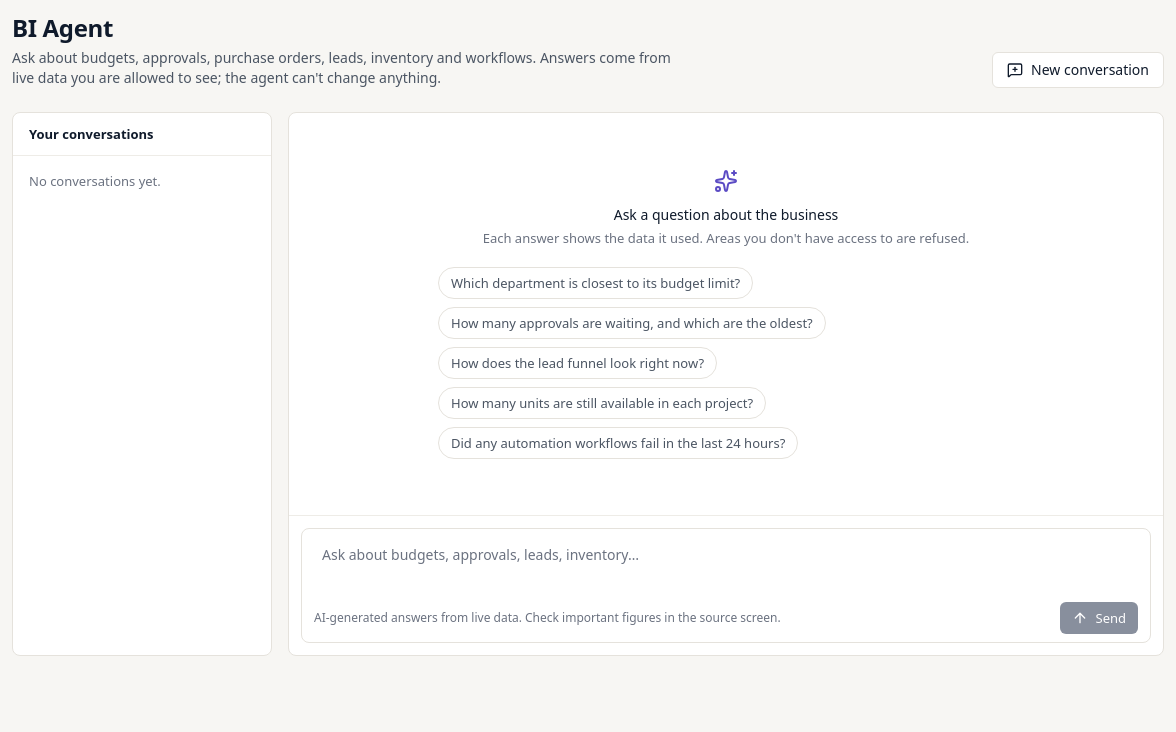
it: BI agent page › reports a refused request (e.g. 503) inline
In the text box named "Message": point(726, 565) [310, 537, 1142, 593], type "Budget?"
Then press Enter
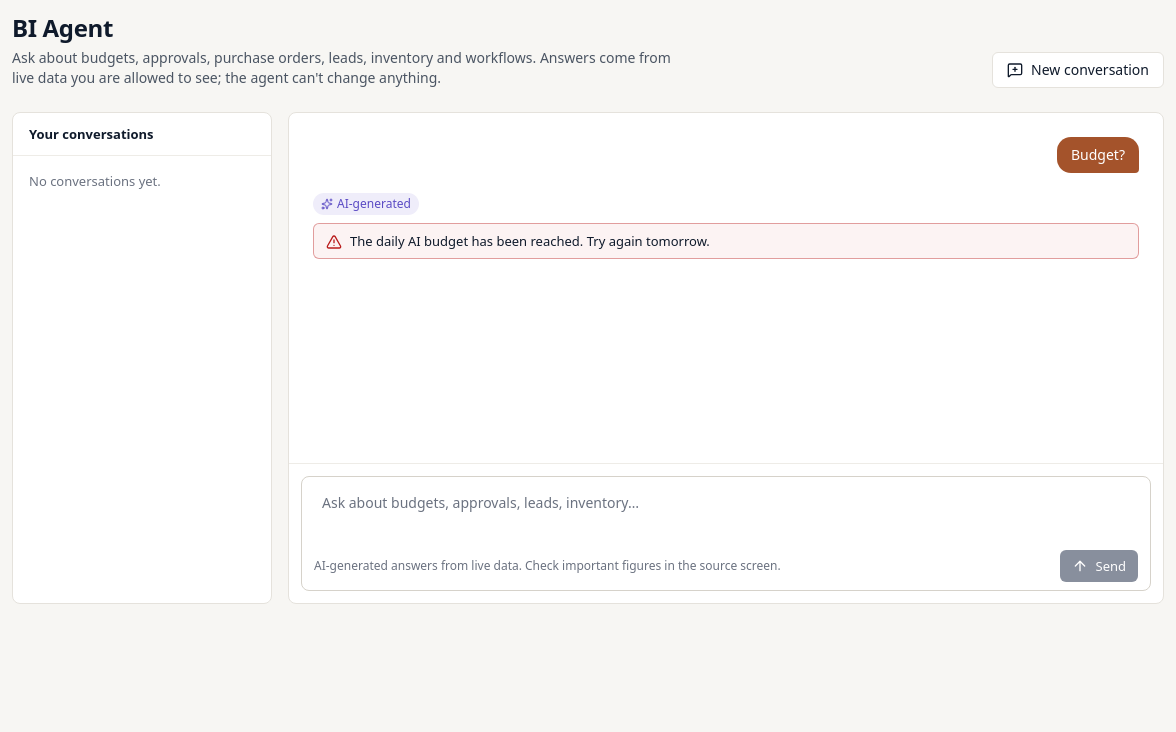
Result: the message shows "daily AI budget" at [350, 232, 710, 250]
